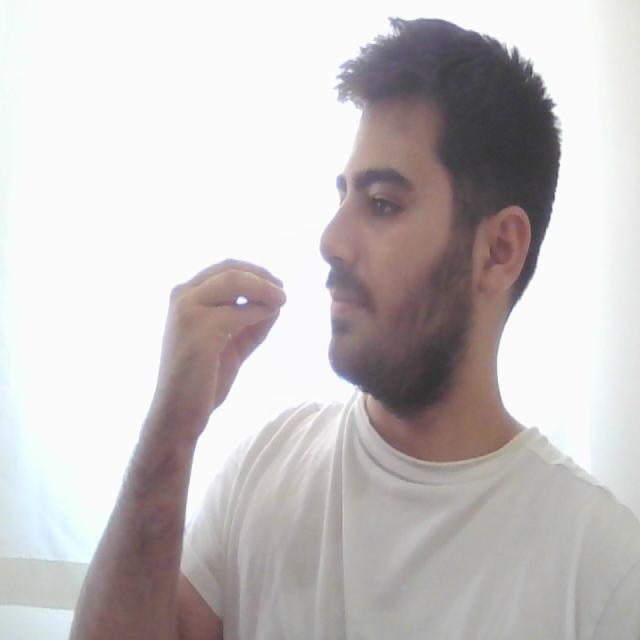Yemek: (163, 256, 370, 337)
